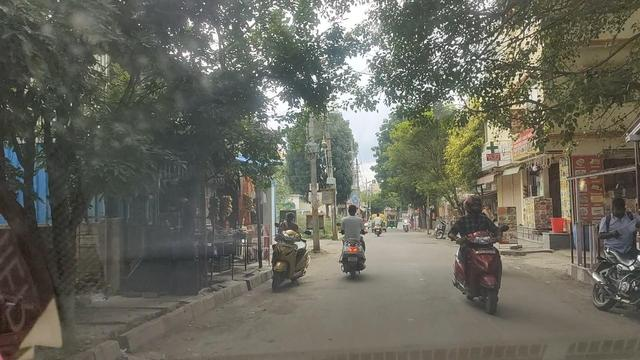LMV: (448, 182, 523, 322), (564, 193, 640, 309), (333, 201, 373, 291), (268, 222, 311, 294)
